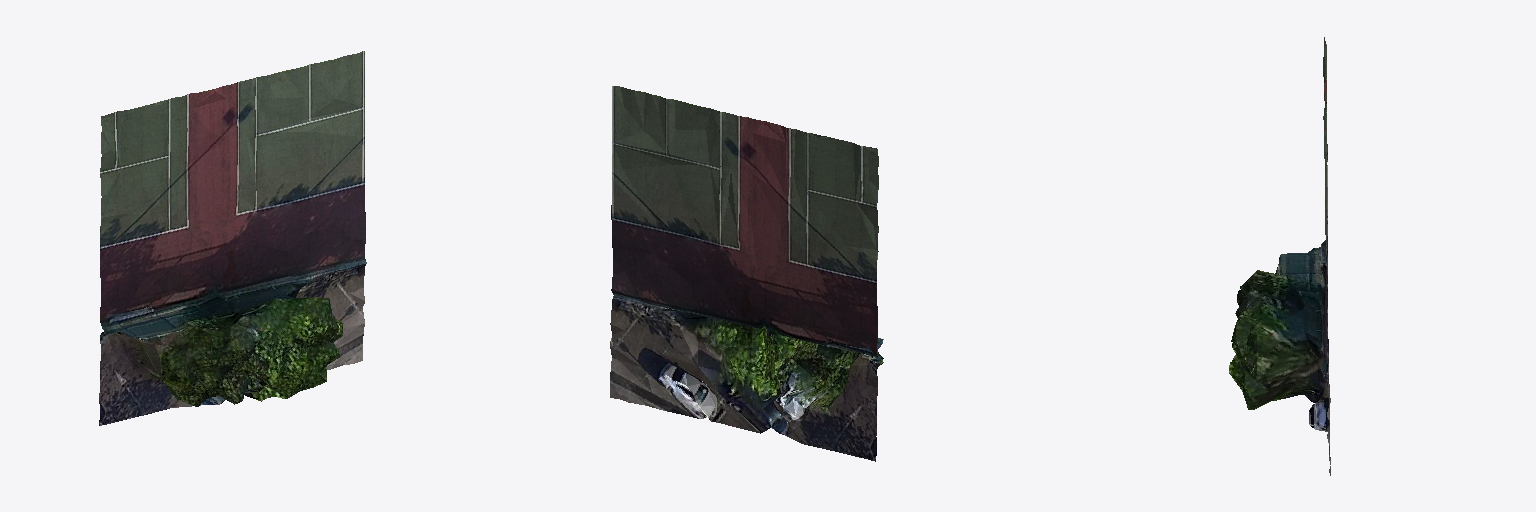
The picture shows the model from 3 angles: view 1: azimuth 30°, elevation 25°; view 2: azimuth 150°, elevation 25°; view 3: azimuth 270°, elevation 25°; orthographic projection.
Visible parts, largest first — view 1: obj_0; view 2: obj_0; view 3: obj_0.
Part boxes in pixels (bbox=[...]): obj_0: bbox=[99, 51, 366, 425]; obj_0: bbox=[610, 86, 883, 461]; obj_0: bbox=[1229, 37, 1330, 475].
Bounding box in the file's own units: 20.08 × 22.53 × 6.7.
1 materials, 1 textured.